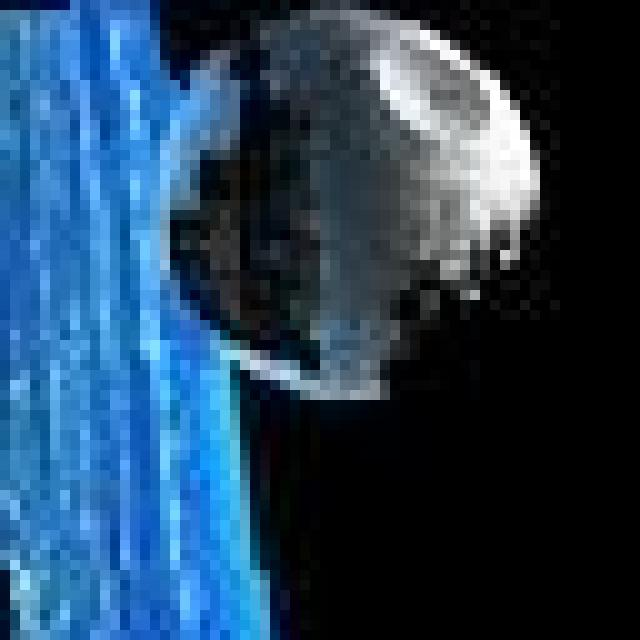Death Star: (144, 8, 545, 405)
